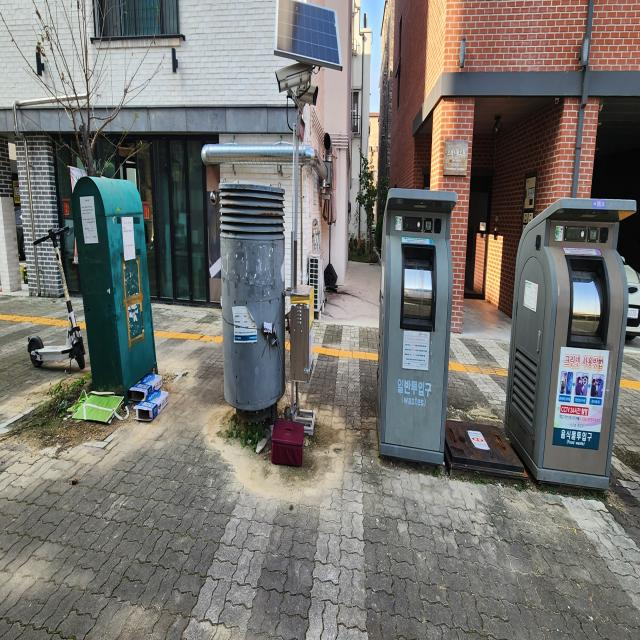CleanNet: (510, 191, 639, 489), (377, 179, 462, 474)
General Waste: (264, 286, 324, 476), (59, 366, 176, 452)
